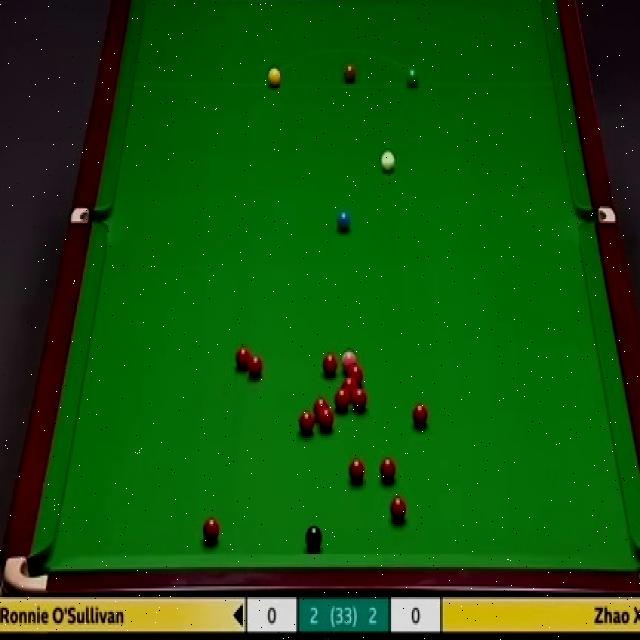black-ball: (305, 522, 323, 552)
blue-ball: (336, 209, 352, 234)
brown-ball: (342, 65, 356, 84)
green-ball: (406, 67, 419, 88)
pink-ball: (341, 349, 358, 368)
red-ball: (389, 496, 407, 524), (322, 351, 339, 379), (203, 518, 221, 544), (412, 404, 430, 428), (379, 458, 396, 482), (349, 459, 366, 482), (319, 407, 335, 431), (248, 355, 263, 380), (235, 345, 250, 370), (299, 411, 315, 433), (352, 388, 368, 409), (334, 389, 351, 408), (340, 376, 359, 391), (313, 396, 328, 414), (347, 366, 366, 378)
white-ball: (380, 149, 396, 176)
yellow-ball: (267, 66, 282, 88)
